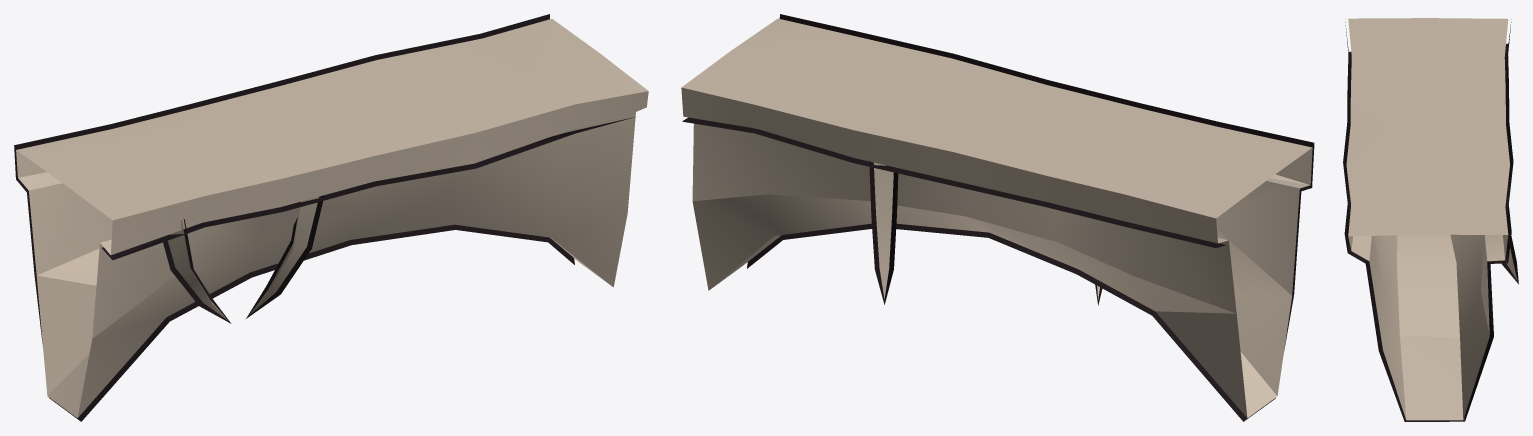
File: SM_Trail_Deck_16.fbx
3 renders of one model, left to right at view 1: azimuth 30°, elevation 25°; view 2: azimuth 150°, elevation 25°; view 3: azimuth 270°, elevation 25°, orthographic. The views are drawn at different scales.
Visible parts, largest first — view 1: SM_Trail_Deck_16; view 2: SM_Trail_Deck_16; view 3: SM_Trail_Deck_16.
Part boxes in pixels (bbox=[...]): SM_Trail_Deck_16: bbox=[14, 14, 648, 421]; SM_Trail_Deck_16: bbox=[681, 14, 1314, 421]; SM_Trail_Deck_16: bbox=[1343, 18, 1518, 421].
Bounding box in the file's own units: 16 × 6.64 × 5.49.
